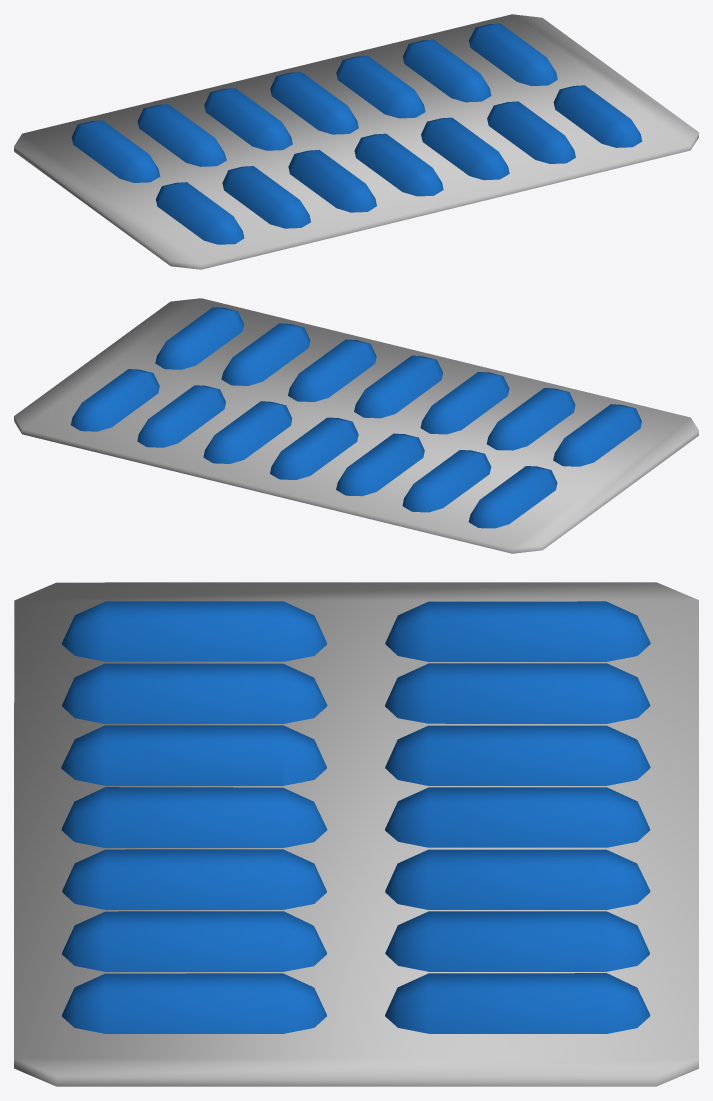
File: Pills.fbx
3 views of the same model, one above another, from view 1: azimuth 30°, elevation 25°; view 2: azimuth 150°, elevation 25°; view 3: azimuth 270°, elevation 25° (orthographic). The views are drawn at different scales.
Parts seen in each view (by area): view 1: Pills; view 2: Pills; view 3: Pills.
Part boxes in pixels (x1=…): Pills: x1=14, y1=14, x2=698, y2=269; Pills: x1=14, y1=298, x2=698, y2=553; Pills: x1=14, y1=582, x2=698, y2=1086.
Size of the model in its own units: 12.5 by 0.5106 by 7.32.
1 material, 1 textured.
